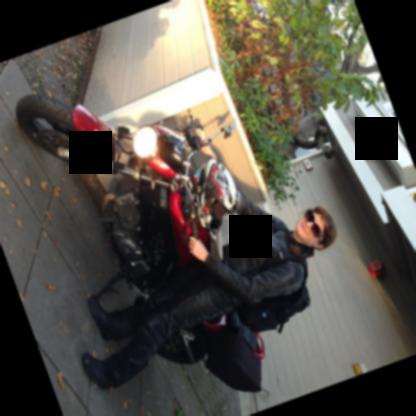backpack: (237, 251, 310, 334)
